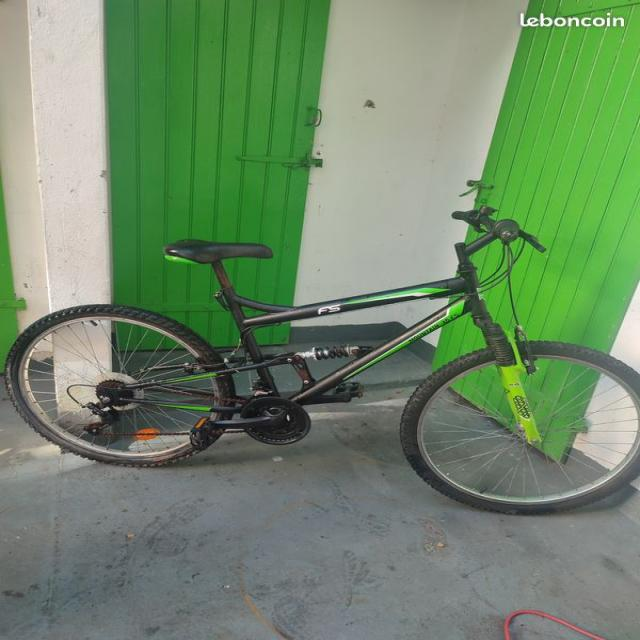Bike: (5, 206, 639, 513)
